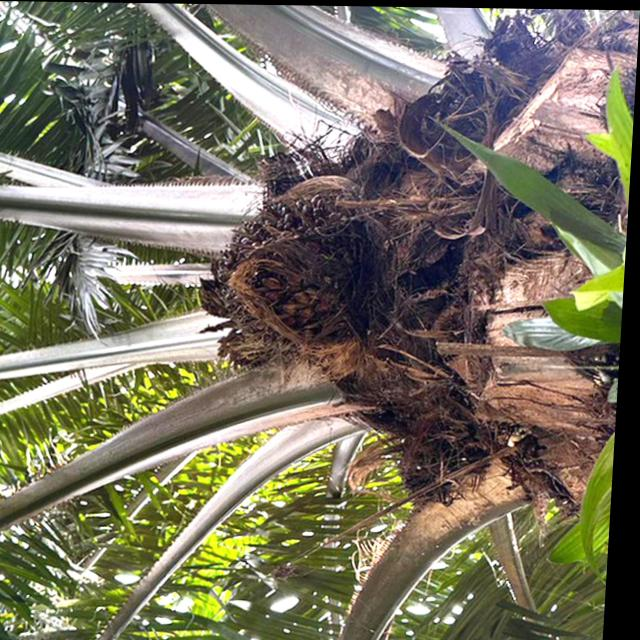ripe: (197, 183, 380, 371)
